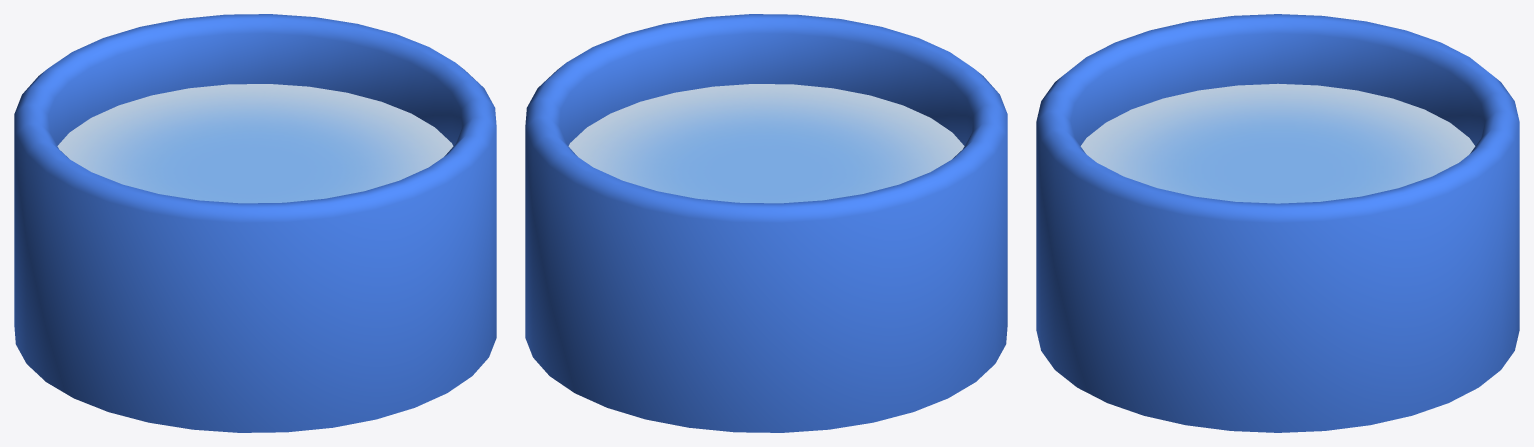
Rendered from pool_1.fbx.
The picture shows the model from 3 angles, left to right: view 1: azimuth 30°, elevation 25°; view 2: azimuth 150°, elevation 25°; view 3: azimuth 270°, elevation 25°; orthographic projection.
Parts seen in each view (by area): view 1: pool_1; view 2: pool_1; view 3: pool_1.
Part boxes in pixels (bbox=[...]): pool_1: bbox=[14, 14, 496, 432]; pool_1: bbox=[525, 14, 1007, 432]; pool_1: bbox=[1036, 14, 1519, 432].
Bounding box in the file's own units: 0.9292 × 0.4657 × 0.9292.
